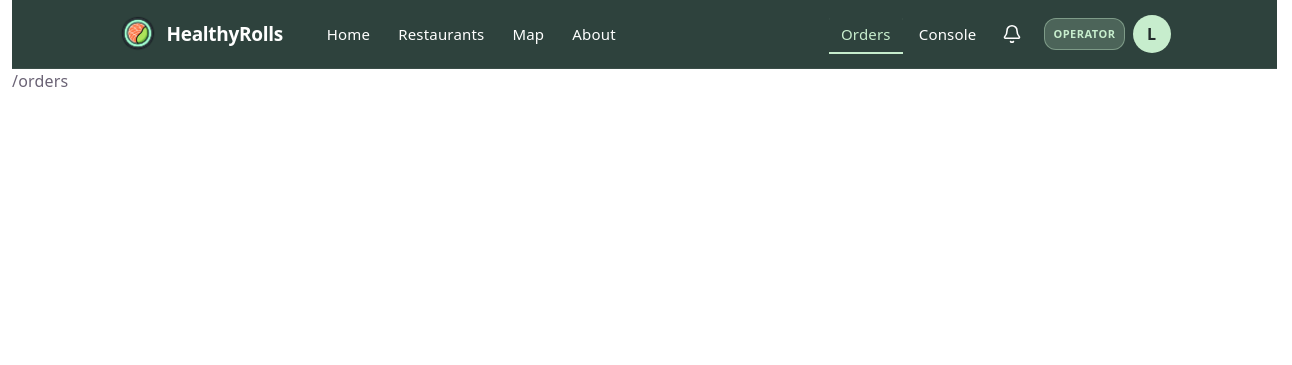
Navbar characterisation › displays and logs a failed reset without clearing the session or cart
Click the button named "Account menu" at (1152, 34), box [1132,15,1170,53]
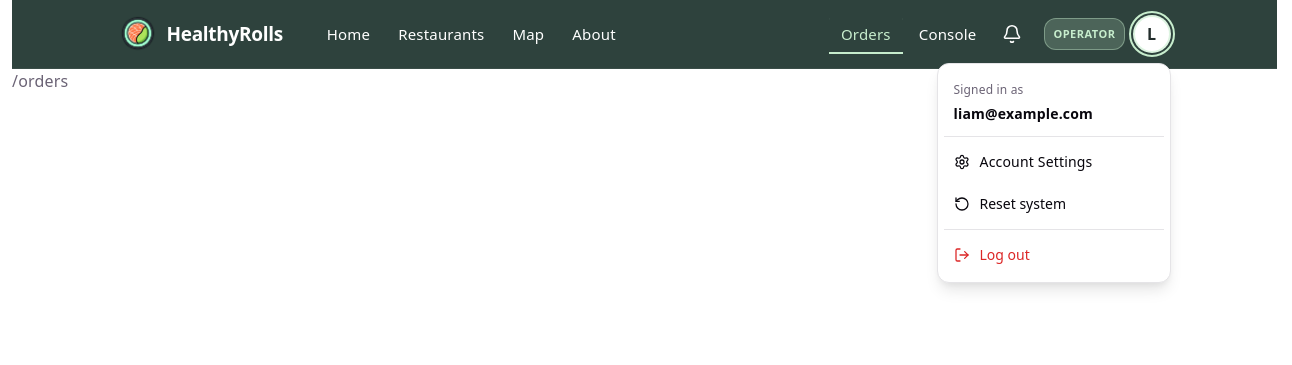
Click the menu item "Reset system" at (1054, 204), box [944,183,1164,225]
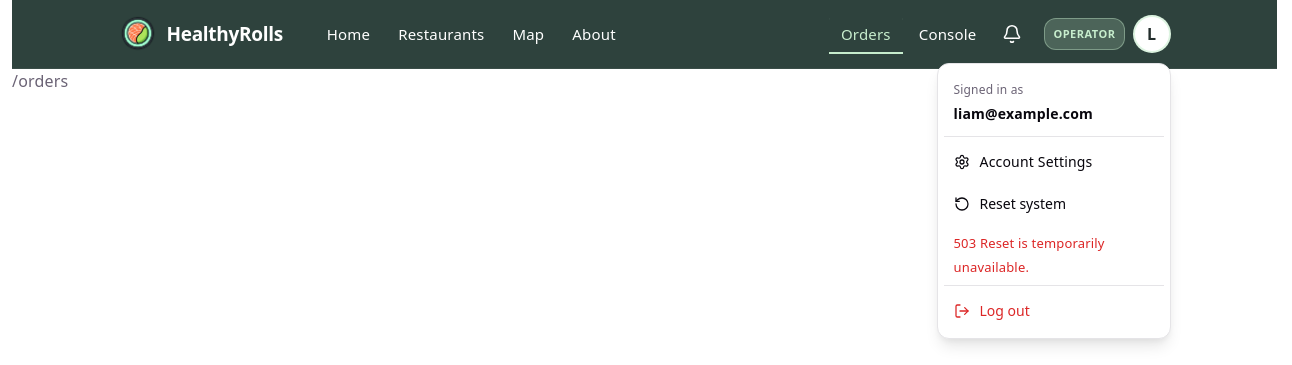
Expected: the menu item "Reset system" is enabled, [944,183,1164,225]
Expected: the message reads "503 Reset is temporarily unavailable.", [954,234,1105,276]
